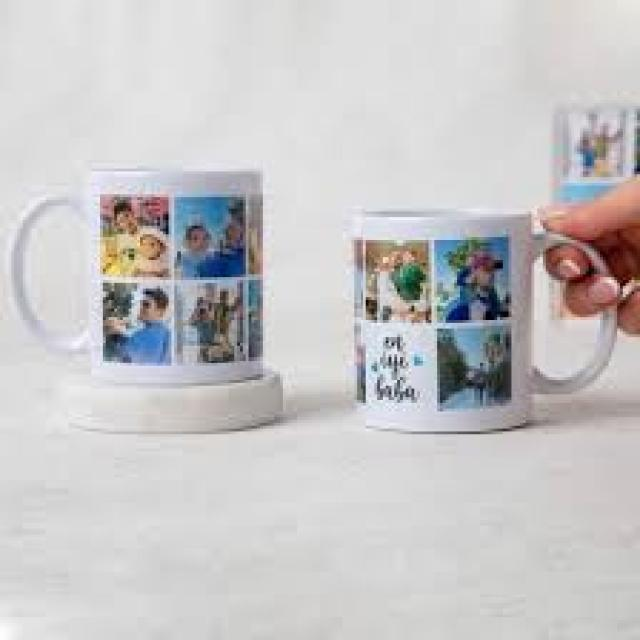taza: (343, 204, 618, 436), (12, 168, 264, 388)
